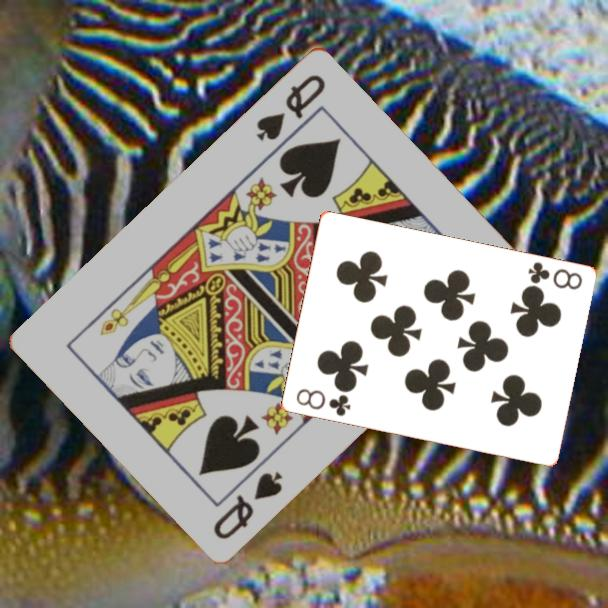c08: (292, 385, 353, 419), (524, 259, 585, 293)
s12: (209, 466, 286, 542), (252, 70, 329, 144)
